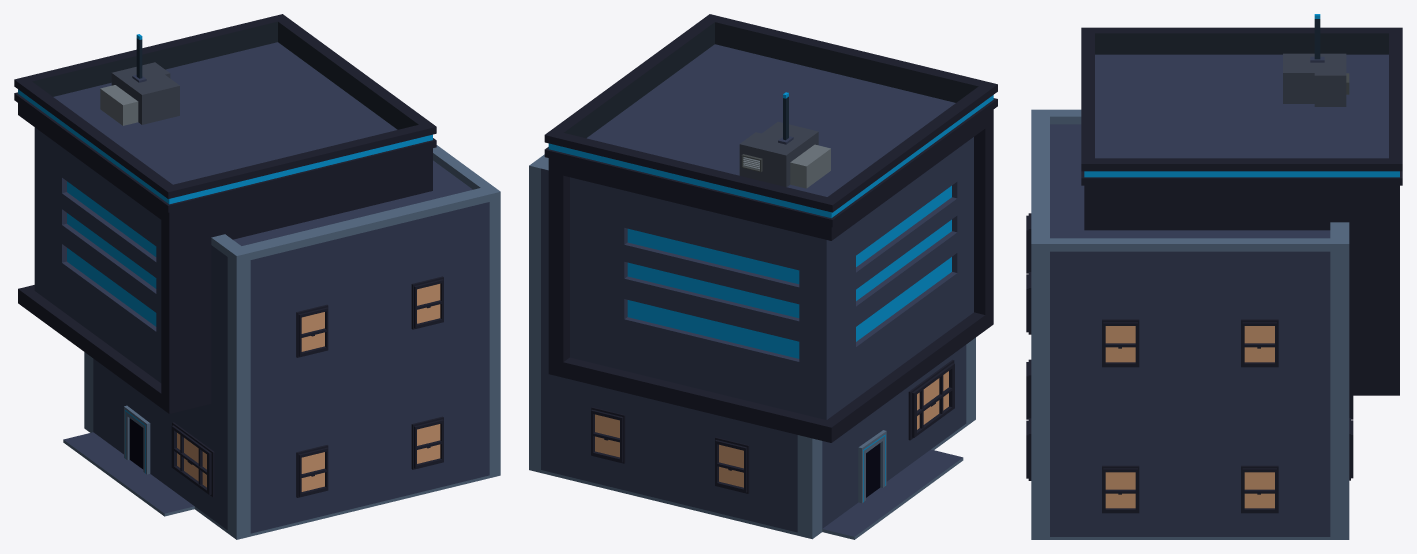
Rendered from Building_Tall05.fbx.
3 views of the same model, side by side, from view 1: azimuth 30°, elevation 25°; view 2: azimuth 150°, elevation 25°; view 3: azimuth 270°, elevation 25° (orthographic). The views are drawn at different scales.
Parts seen in each view (by area): view 1: Cube.445; view 2: Cube.445; view 3: Cube.445.
Part boxes in pixels (bbox=[...]): Cube.445: bbox=[14, 14, 500, 539]; Cube.445: bbox=[529, 14, 997, 539]; Cube.445: bbox=[1026, 14, 1402, 539].
Bounding box in the file's own units: 1005 × 1197 × 993.
